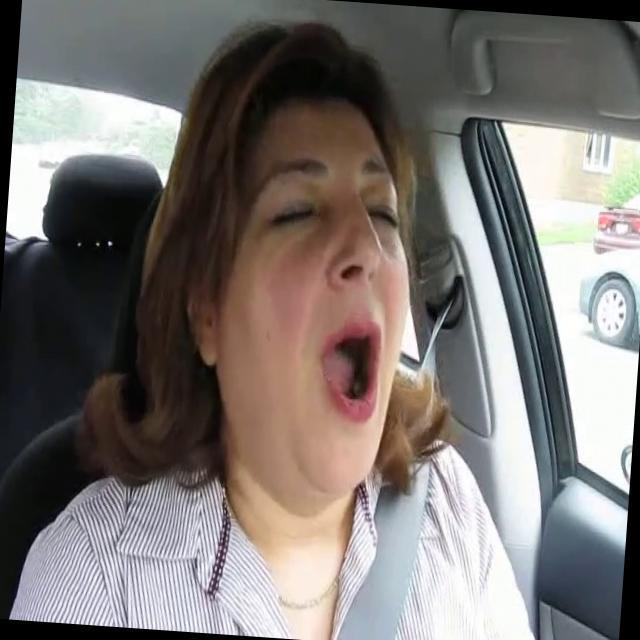open-mouth: (320, 319, 383, 424)
